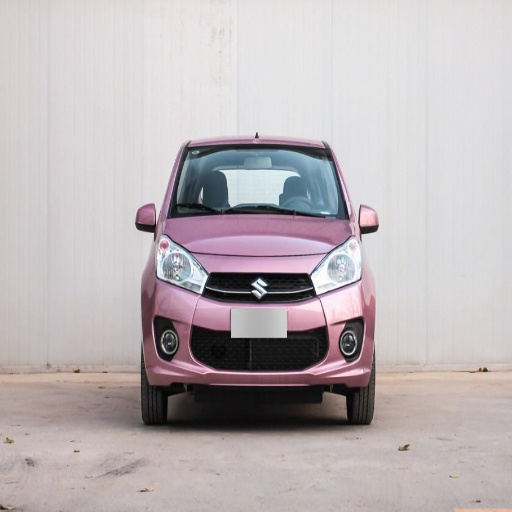front_bumper: (149, 251, 373, 386)
front_right_light: (155, 236, 203, 289)
hood: (164, 215, 350, 254)
